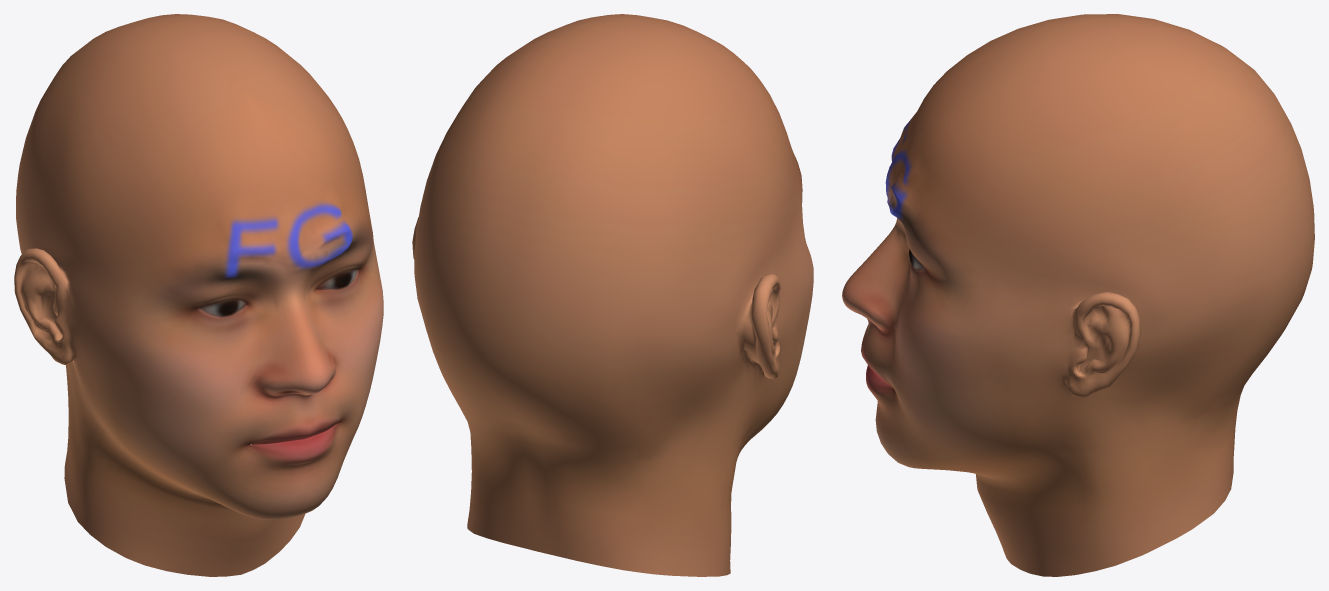
The model's file is avg_eastasian_male.obj.
3 views of the same model, side by side, from view 1: azimuth 30°, elevation 25°; view 2: azimuth 150°, elevation 25°; view 3: azimuth 270°, elevation 25° (orthographic). The views are drawn at different scales.
Visible parts, largest first — view 1: HeadHires; view 2: HeadHires; view 3: HeadHires.
Part boxes in pixels (<box>): HeadHires: <box>14,14,383,576</box>; HeadHires: <box>412,14,813,576</box>; HeadHires: <box>842,14,1314,576</box>.
Bounding box in the file's own units: 192 × 283 × 232.
Materials: 1 (1 with a texture image).
